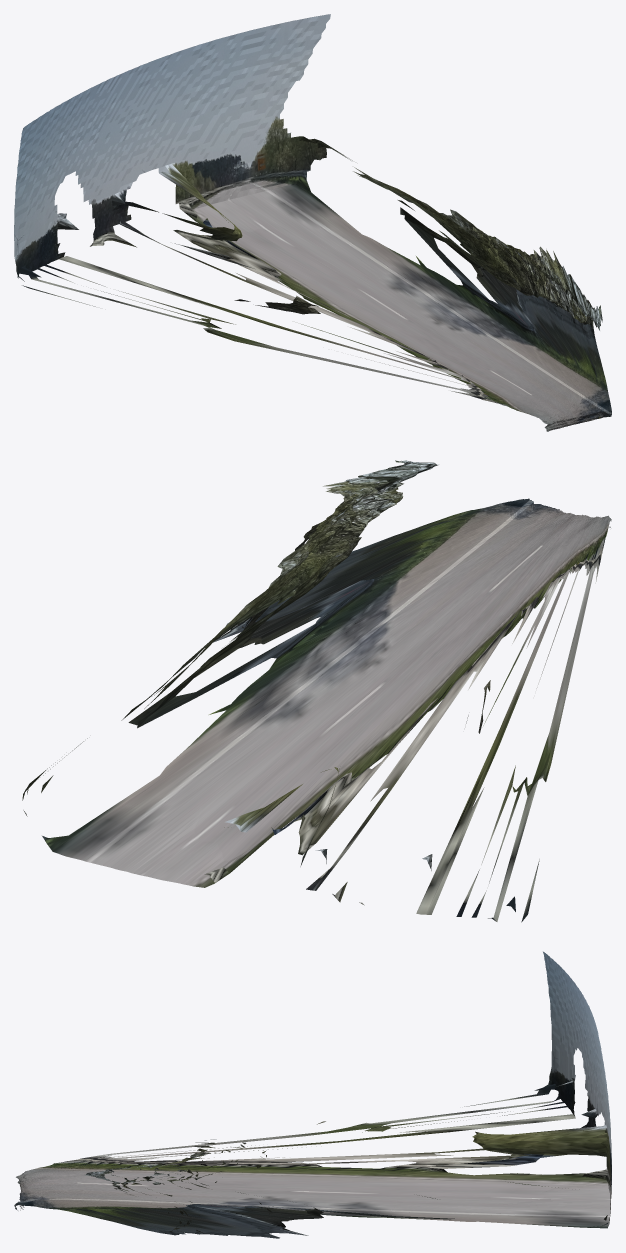
3 views of the same model, one above another, from view 1: azimuth 30°, elevation 25°; view 2: azimuth 150°, elevation 25°; view 3: azimuth 270°, elevation 25° (orthographic). The views are drawn at different scales.
Parts seen in each view (by area): view 1: defaultobject; view 2: defaultobject; view 3: defaultobject.
Part boxes in pixels (left/top/right/bottom): defaultobject: left=14, top=14, right=611, bottom=431; defaultobject: left=22, top=460, right=611, bottom=922; defaultobject: left=14, top=951, right=611, bottom=1238.
Bounding box in the file's own units: 28.62 × 12.59 × 44.52.
Materials: 1 (1 with a texture image).
